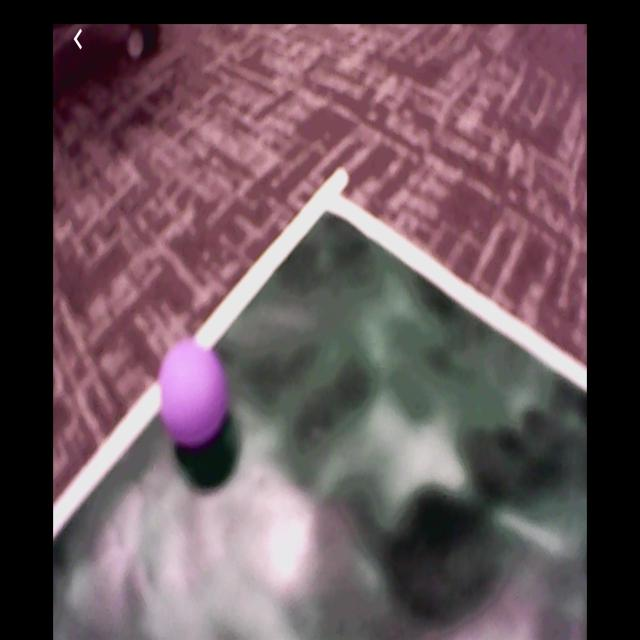ball: (158, 341, 232, 446)
